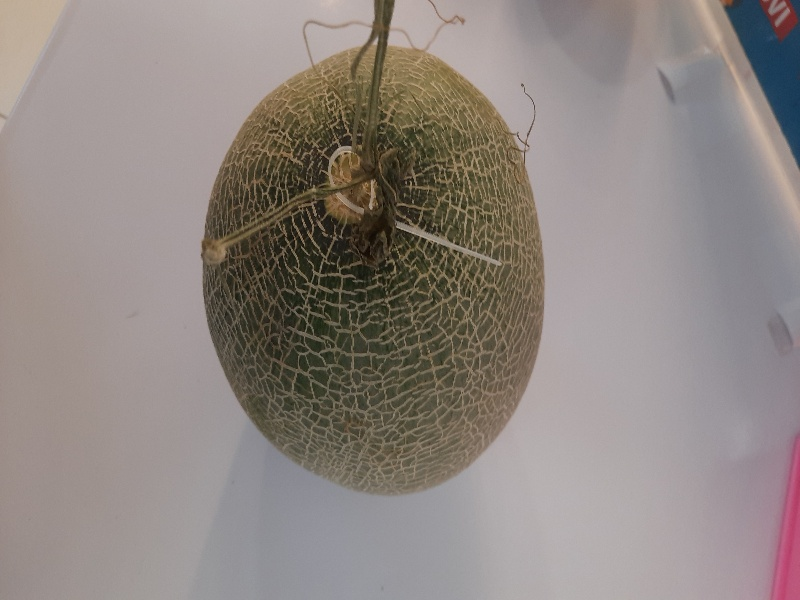fruit: (192, 34, 560, 506)
